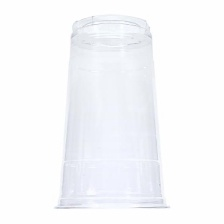glass: (49, 10, 180, 216)
